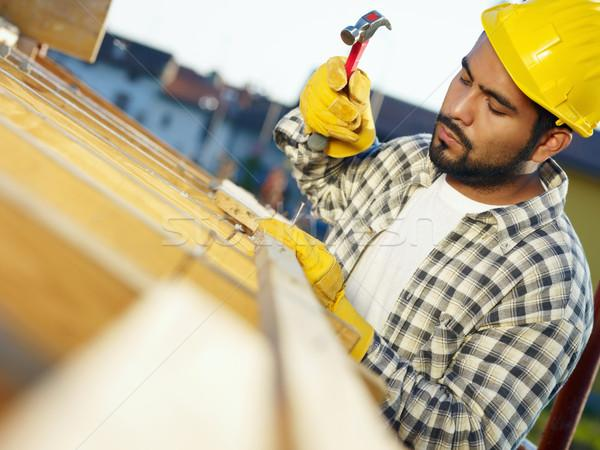helmet: (478, 1, 600, 140)
